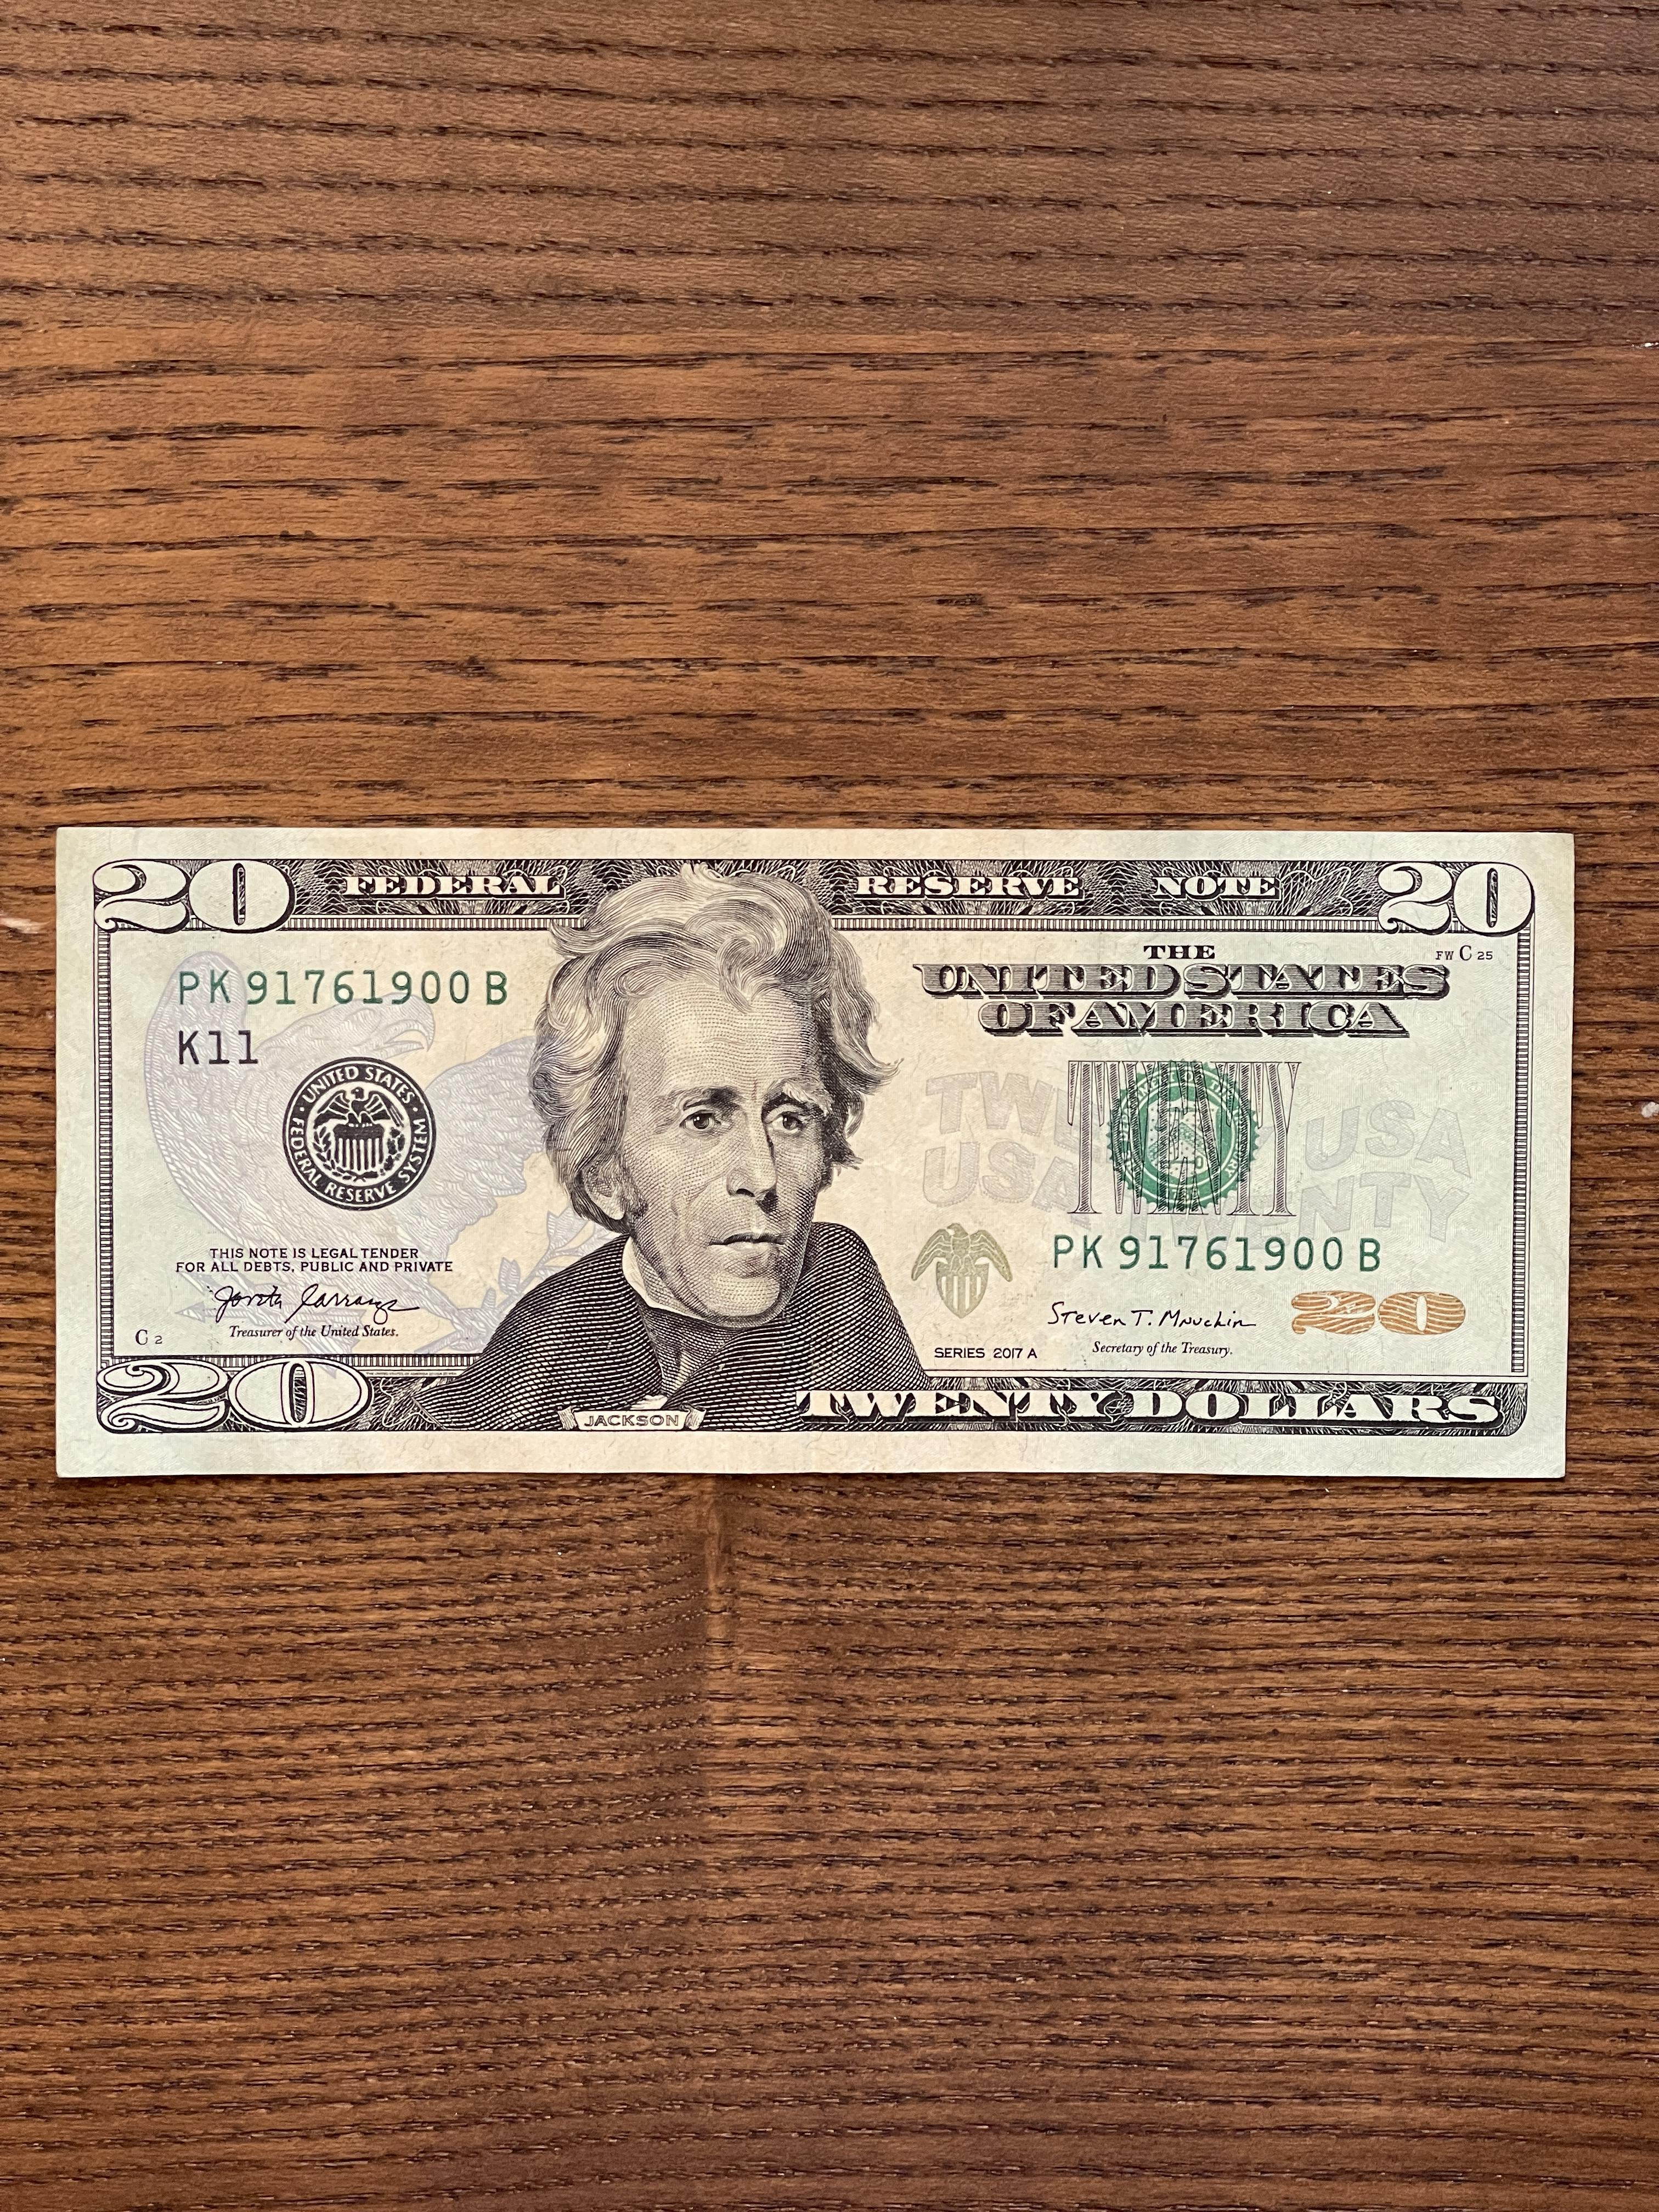TwentyBill: (52, 817, 1582, 1484)
